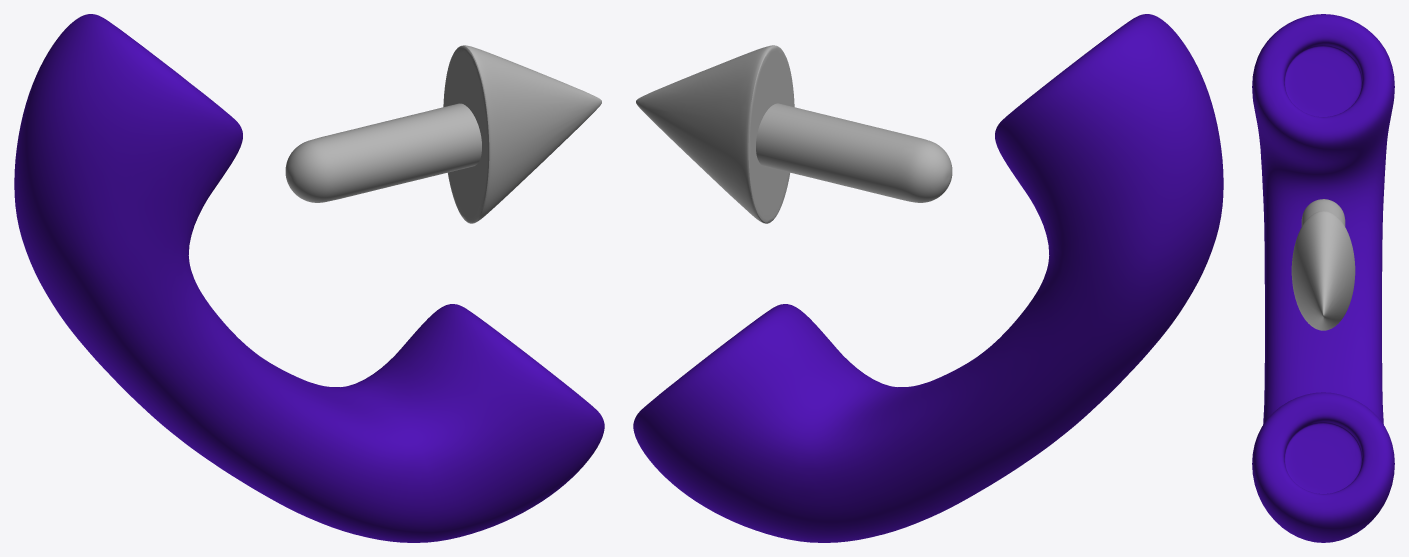
Rendered from call-out.glb.
3 views of the same model, side by side, from view 1: azimuth 30°, elevation 25°; view 2: azimuth 150°, elevation 25°; view 3: azimuth 270°, elevation 25° (orthographic). The views are drawn at different scales.
Parts seen in each view (by area): view 1: Phone Calling; view 2: Phone Calling; view 3: Phone Calling.
Boxes of the visible parts, x1,y1,x2,y2 form: Phone Calling: (14, 14, 604, 542); Phone Calling: (633, 14, 1223, 542); Phone Calling: (1252, 14, 1394, 542).
Size of the model in its own units: 1.82 by 1.77 by 0.5743.
